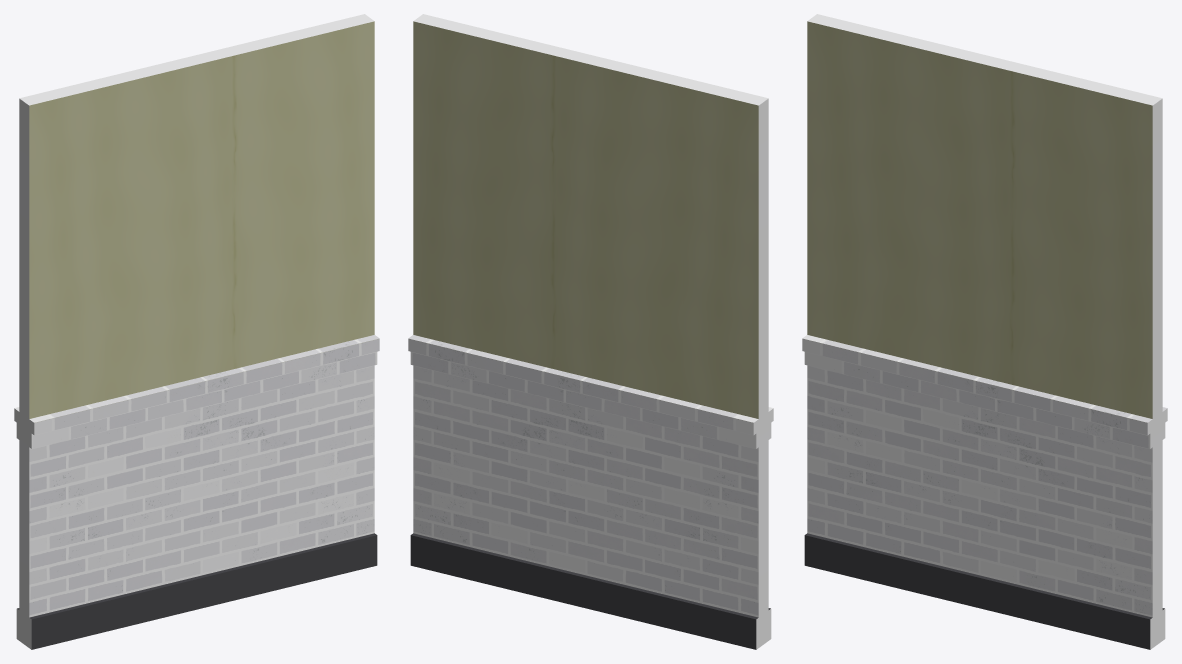
File: SM_Buildings_Wall_2x3_01_TileBack.fbx
3 views of the same model, side by side, from view 1: azimuth 30°, elevation 25°; view 2: azimuth 150°, elevation 25°; view 3: azimuth 330°, elevation 25° (orthographic).
Parts seen in each view (by area): view 1: SM_Buildings_Wall_2x3_01_TileBack; view 2: SM_Buildings_Wall_2x3_01_TileBack; view 3: SM_Buildings_Wall_2x3_01_TileBack.
Boxes of the visible parts, x1,y1,x2,y2 form: SM_Buildings_Wall_2x3_01_TileBack: (14,14,379,649); SM_Buildings_Wall_2x3_01_TileBack: (408,14,773,649); SM_Buildings_Wall_2x3_01_TileBack: (802,14,1167,649).
Size of the model in its own units: 200 by 300 by 20.
1 material, 1 textured.
